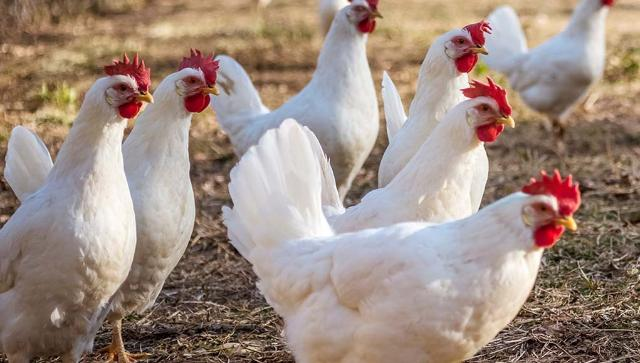Chicken: (221, 120, 583, 363), (3, 47, 223, 362), (0, 49, 155, 363), (208, 0, 383, 199), (302, 79, 516, 236), (378, 20, 492, 186), (478, 1, 621, 131)
